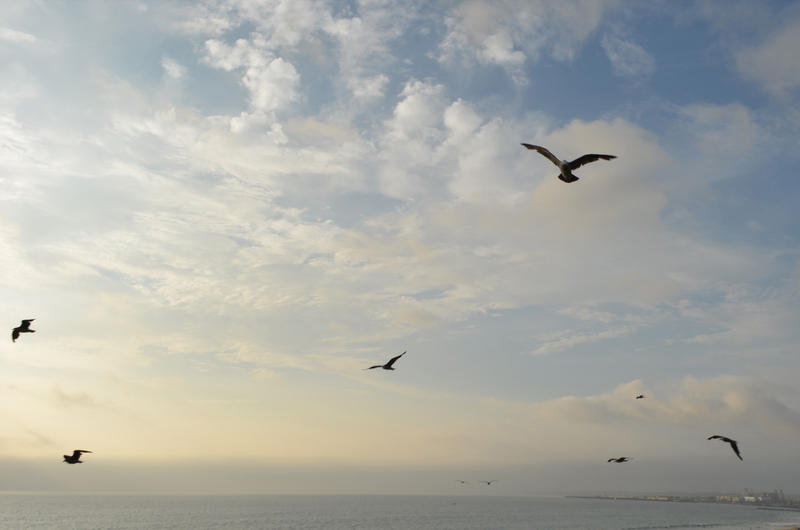bird: (516, 129, 628, 199), (356, 342, 418, 384), (8, 311, 43, 350), (55, 447, 102, 472), (605, 449, 639, 473)
